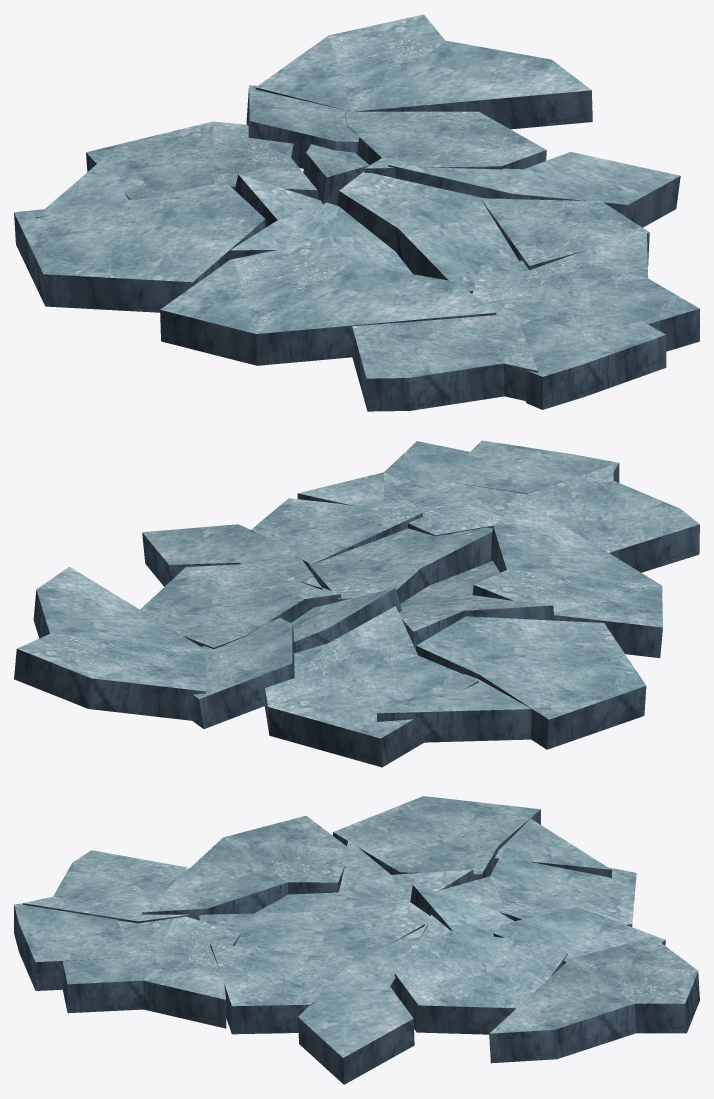
3 renders of one model, top to bottom at view 1: azimuth 30°, elevation 25°; view 2: azimuth 150°, elevation 25°; view 3: azimuth 270°, elevation 25°, orthographic. The views are drawn at different scales.
Visible parts, largest first — view 1: wj27; view 2: wj27; view 3: wj27.
Boxes of the visible parts, x1,y1,x2,y2 form: wj27: (14, 14, 699, 411); wj27: (14, 440, 699, 767); wj27: (14, 796, 699, 1084).
Bounding box in the file's own units: 1189 × 163 × 1371.
Materials: 1 (1 with a texture image).
